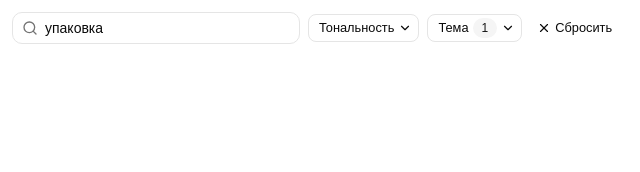
ReviewsToolbar: поиск › показывает запрос из ссылки и очищается при сбросе фильтров
The image size is (640, 172).
Check: the search field named "Поиск по тексту отзывов" holds "упаковка", box 12,12 -> 300,44
Click the button "Сбросить".
click(577, 28)  # box 530,14 -> 623,42
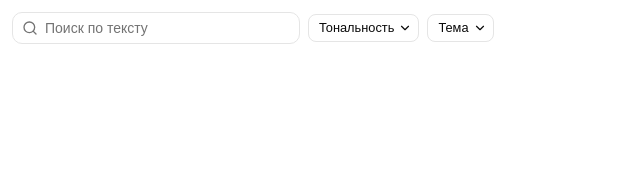
Check: the search field named "Поиск по тексту отзывов" is empty, box 12,12 -> 300,44
